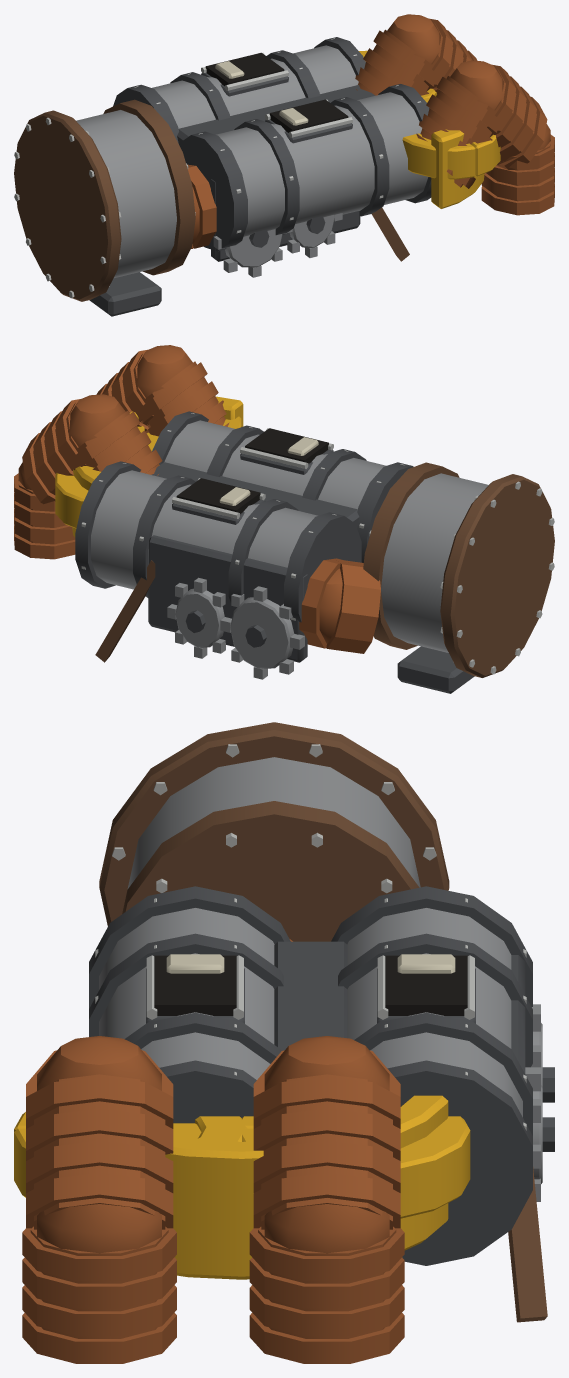
Rendered from offshore-pump-east.glb.
3 renders of one model, top to bottom at view 1: azimuth 30°, elevation 25°; view 2: azimuth 150°, elevation 25°; view 3: azimuth 270°, elevation 25°, orthographic. The views are drawn at different scales.
Parts seen in each view (by area): view 1: body; view 2: body; view 3: body, anim_bob_a, anim_bob_b.
Part boxes in pixels (x1,y1,x2,y2): body: (14, 14, 554, 316); body: (14, 345, 554, 693); body: (14, 722, 554, 1363); anim_bob_a: (397, 954, 455, 973); anim_bob_b: (166, 954, 224, 973).
Size of the model in its own units: 2.26 by 0.97 by 1.33.
